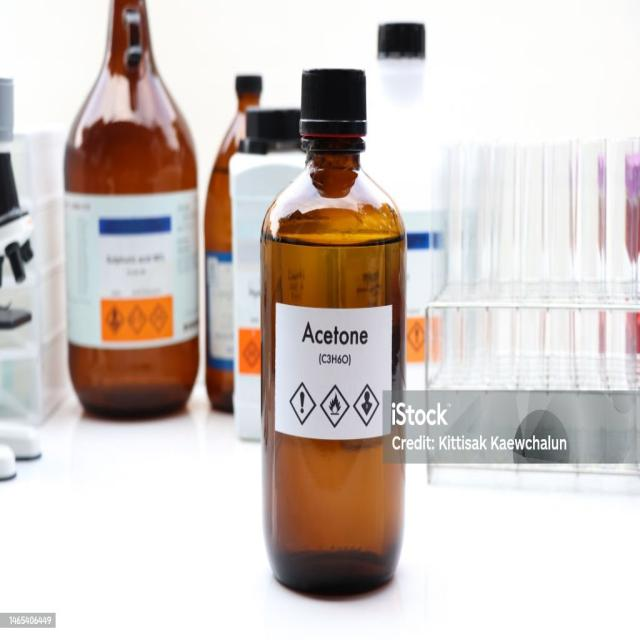chemical name: (301, 318, 372, 348)
flammable: (322, 385, 349, 427)
health hazard: (354, 384, 379, 428)
toxic: (289, 383, 317, 425)
